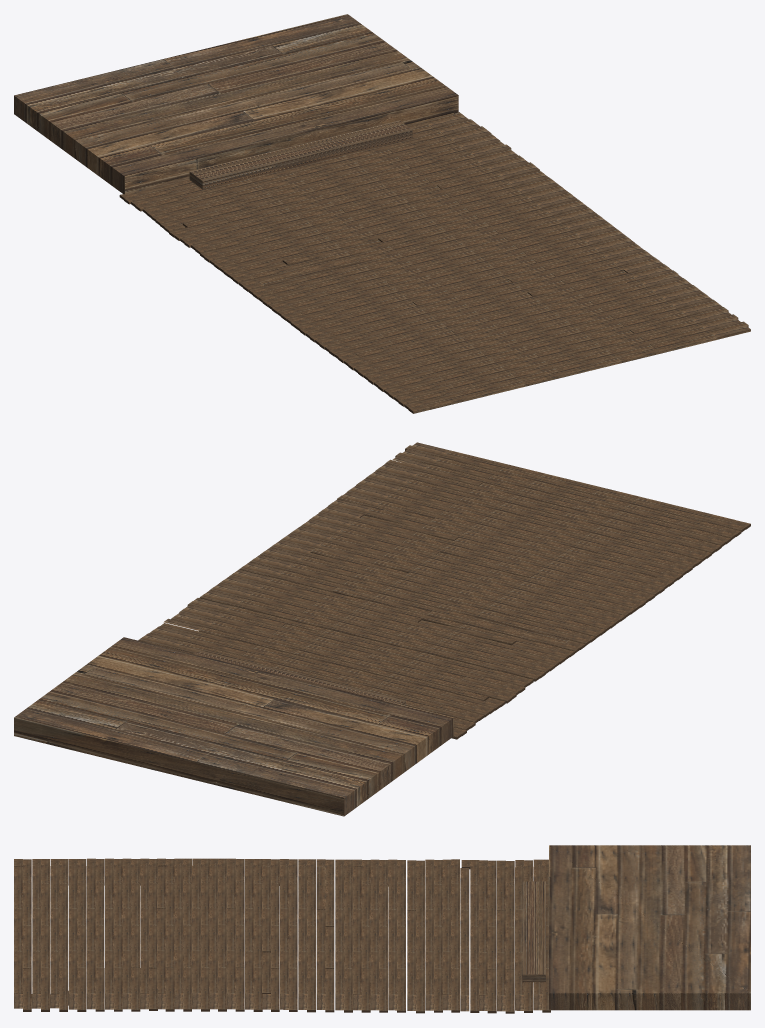
The model's file is HUB_Floor(1).fbx.
3 views of the same model, one above another, from view 1: azimuth 30°, elevation 25°; view 2: azimuth 150°, elevation 25°; view 3: azimuth 270°, elevation 25° (orthographic). The views are drawn at different scales.
Visible parts, largest first — view 1: HUB_Sol; view 2: HUB_Sol; view 3: HUB_Sol.
Part boxes in pixels (x1,y1,x2,y2): HUB_Sol: (14, 14, 750, 413); HUB_Sol: (14, 442, 750, 816); HUB_Sol: (14, 845, 750, 1013).
Size of the model in its own units: 1050 by 63.7 by 2136.
1 material, 1 textured.
